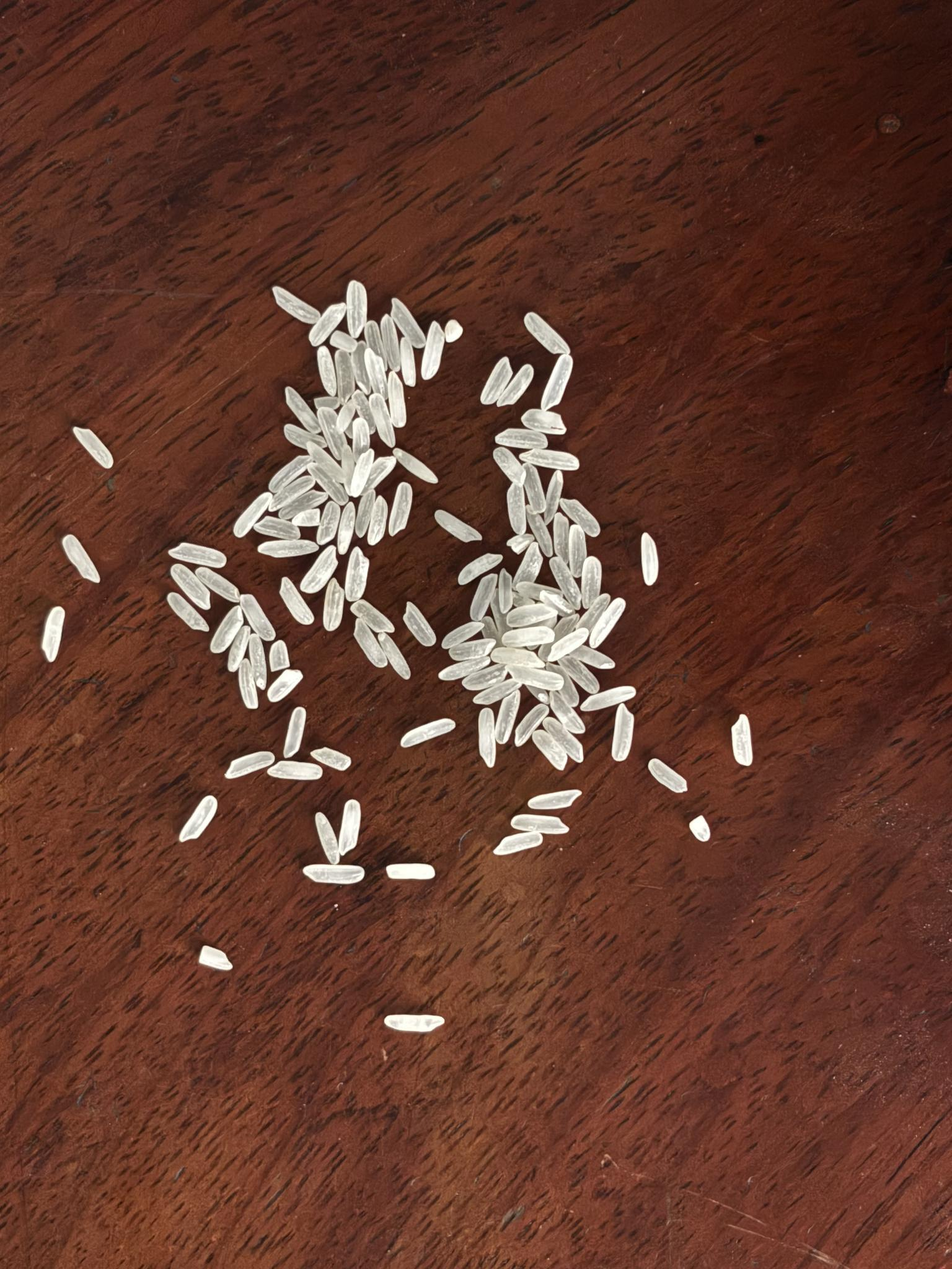Rice-th-y-nh: (522, 312, 572, 356), (169, 563, 212, 611), (390, 298, 427, 349), (272, 287, 320, 326), (62, 534, 99, 584), (232, 492, 272, 538), (178, 795, 218, 841), (544, 718, 584, 764), (540, 354, 574, 408), (588, 598, 626, 646), (300, 546, 338, 593), (284, 386, 320, 435), (278, 576, 314, 625), (239, 593, 275, 642), (559, 497, 602, 538), (496, 362, 535, 407), (352, 618, 386, 669), (307, 464, 349, 505), (73, 427, 114, 469), (309, 302, 347, 347), (479, 356, 513, 405), (195, 567, 240, 604), (392, 448, 438, 484), (317, 406, 348, 459), (166, 593, 208, 632), (558, 656, 600, 695), (549, 556, 581, 607), (208, 606, 243, 652), (548, 691, 585, 734), (434, 510, 482, 543), (512, 704, 549, 746), (368, 393, 396, 448), (403, 601, 436, 647), (269, 455, 311, 491), (581, 685, 637, 712), (400, 719, 454, 747), (420, 323, 447, 379), (522, 447, 580, 473), (269, 478, 316, 510), (512, 543, 543, 591), (532, 730, 568, 771), (379, 634, 411, 680), (307, 441, 345, 479), (458, 553, 503, 585), (509, 664, 562, 691), (547, 628, 589, 662), (351, 600, 394, 633), (494, 691, 521, 743), (647, 758, 687, 793), (170, 543, 226, 568), (362, 320, 391, 368), (361, 456, 397, 494), (344, 548, 369, 602), (503, 623, 553, 650), (246, 634, 270, 690), (729, 715, 755, 766), (439, 656, 492, 681), (303, 863, 366, 884), (469, 575, 497, 622), (612, 704, 635, 761), (522, 464, 548, 514), (388, 482, 413, 534), (491, 446, 525, 484), (386, 371, 409, 427), (315, 814, 340, 865), (226, 751, 275, 777), (276, 489, 323, 516), (42, 606, 65, 661), (576, 594, 610, 631), (473, 679, 521, 705), (491, 645, 543, 669), (579, 556, 603, 608), (258, 538, 320, 558), (477, 708, 498, 767), (346, 281, 368, 337), (507, 603, 556, 628), (266, 669, 302, 703), (349, 449, 375, 496), (383, 1013, 444, 1033), (338, 800, 361, 853), (542, 471, 565, 524), (333, 349, 356, 402), (352, 490, 377, 538), (322, 579, 345, 631), (379, 316, 401, 370), (638, 532, 660, 586), (396, 337, 420, 386), (505, 483, 528, 534), (521, 407, 566, 433), (551, 513, 572, 568), (227, 626, 252, 672), (528, 514, 554, 558), (571, 644, 615, 670), (463, 664, 507, 690), (566, 525, 588, 577), (442, 621, 484, 648), (528, 789, 582, 810), (363, 348, 387, 394), (284, 707, 306, 757), (496, 428, 548, 449), (494, 833, 543, 855), (283, 424, 326, 449), (367, 497, 389, 545), (316, 347, 337, 396), (335, 505, 356, 554), (510, 815, 567, 833), (256, 516, 300, 539), (268, 761, 321, 780), (237, 662, 258, 709), (449, 639, 496, 660), (311, 747, 351, 771), (551, 613, 581, 644), (558, 663, 579, 707), (351, 341, 369, 392), (318, 502, 339, 544), (540, 591, 575, 616), (350, 418, 372, 456), (339, 445, 357, 491), (496, 569, 515, 612), (199, 946, 232, 970), (335, 399, 358, 433), (386, 863, 434, 879), (268, 640, 289, 672), (330, 330, 358, 353), (689, 815, 711, 842), (508, 532, 535, 553), (292, 508, 321, 527), (481, 616, 499, 640), (314, 395, 341, 410)
